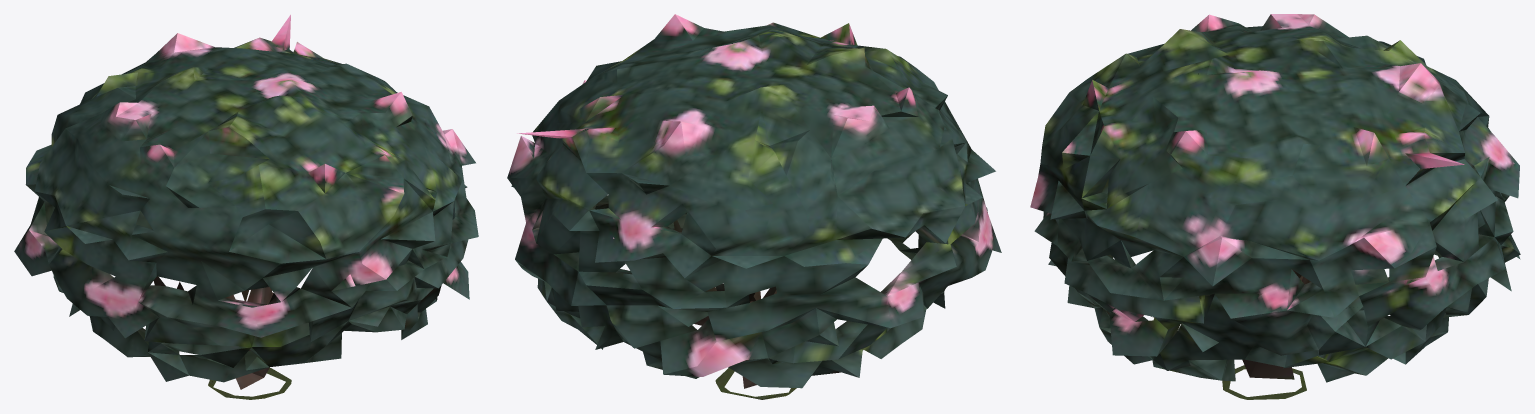
Rendered from shrub_azalea_b.glb.
The picture shows the model from 3 angles, left to right: view 1: azimuth 30°, elevation 25°; view 2: azimuth 150°, elevation 25°; view 3: azimuth 270°, elevation 25°; orthographic projection. The views are drawn at different scales.
Parts seen in each view (by area): view 1: shrub_azalea; view 2: shrub_azalea; view 3: shrub_azalea.
Part boxes in pixels (x1,y1,x2,y2): shrub_azalea: [14, 14, 478, 399]; shrub_azalea: [507, 14, 1001, 399]; shrub_azalea: [1030, 14, 1520, 399].
Bounding box in the file's own units: 1.48 × 1.09 × 1.47.
Materials: 1 (1 with a texture image).
